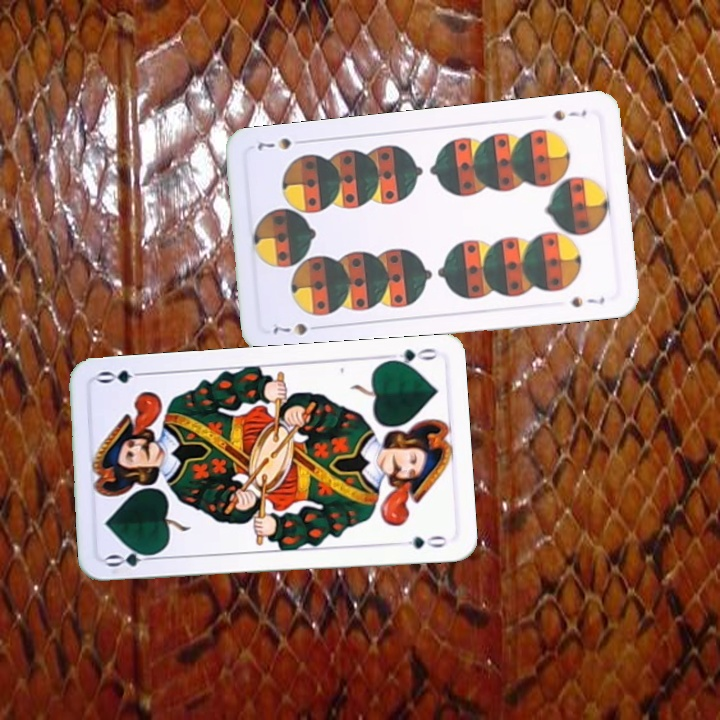GO: (380, 344, 439, 370), (103, 547, 162, 570)
S7: (269, 319, 325, 338), (550, 106, 589, 124)
